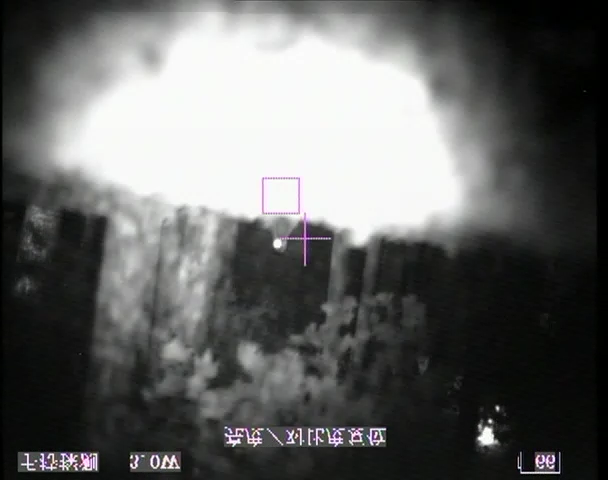my: (272, 237, 281, 248)
